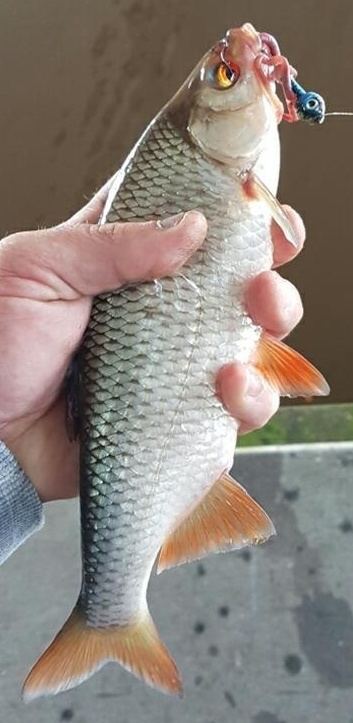Rutilus rutilus: (20, 20, 333, 703)
